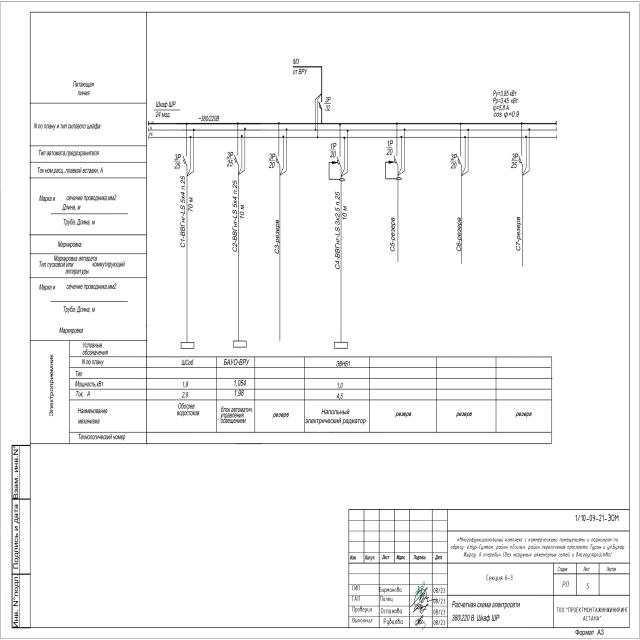-: (154, 99, 178, 118), (328, 140, 338, 160), (268, 152, 278, 171), (449, 152, 458, 172), (509, 151, 518, 171), (323, 95, 332, 114), (385, 138, 394, 157), (173, 152, 182, 171), (225, 150, 234, 169)
QF: (182, 152, 189, 168), (233, 150, 240, 166), (274, 152, 281, 168), (456, 153, 463, 167), (518, 152, 524, 166), (318, 98, 323, 110)
QFD: (385, 153, 404, 181), (328, 155, 347, 182)
